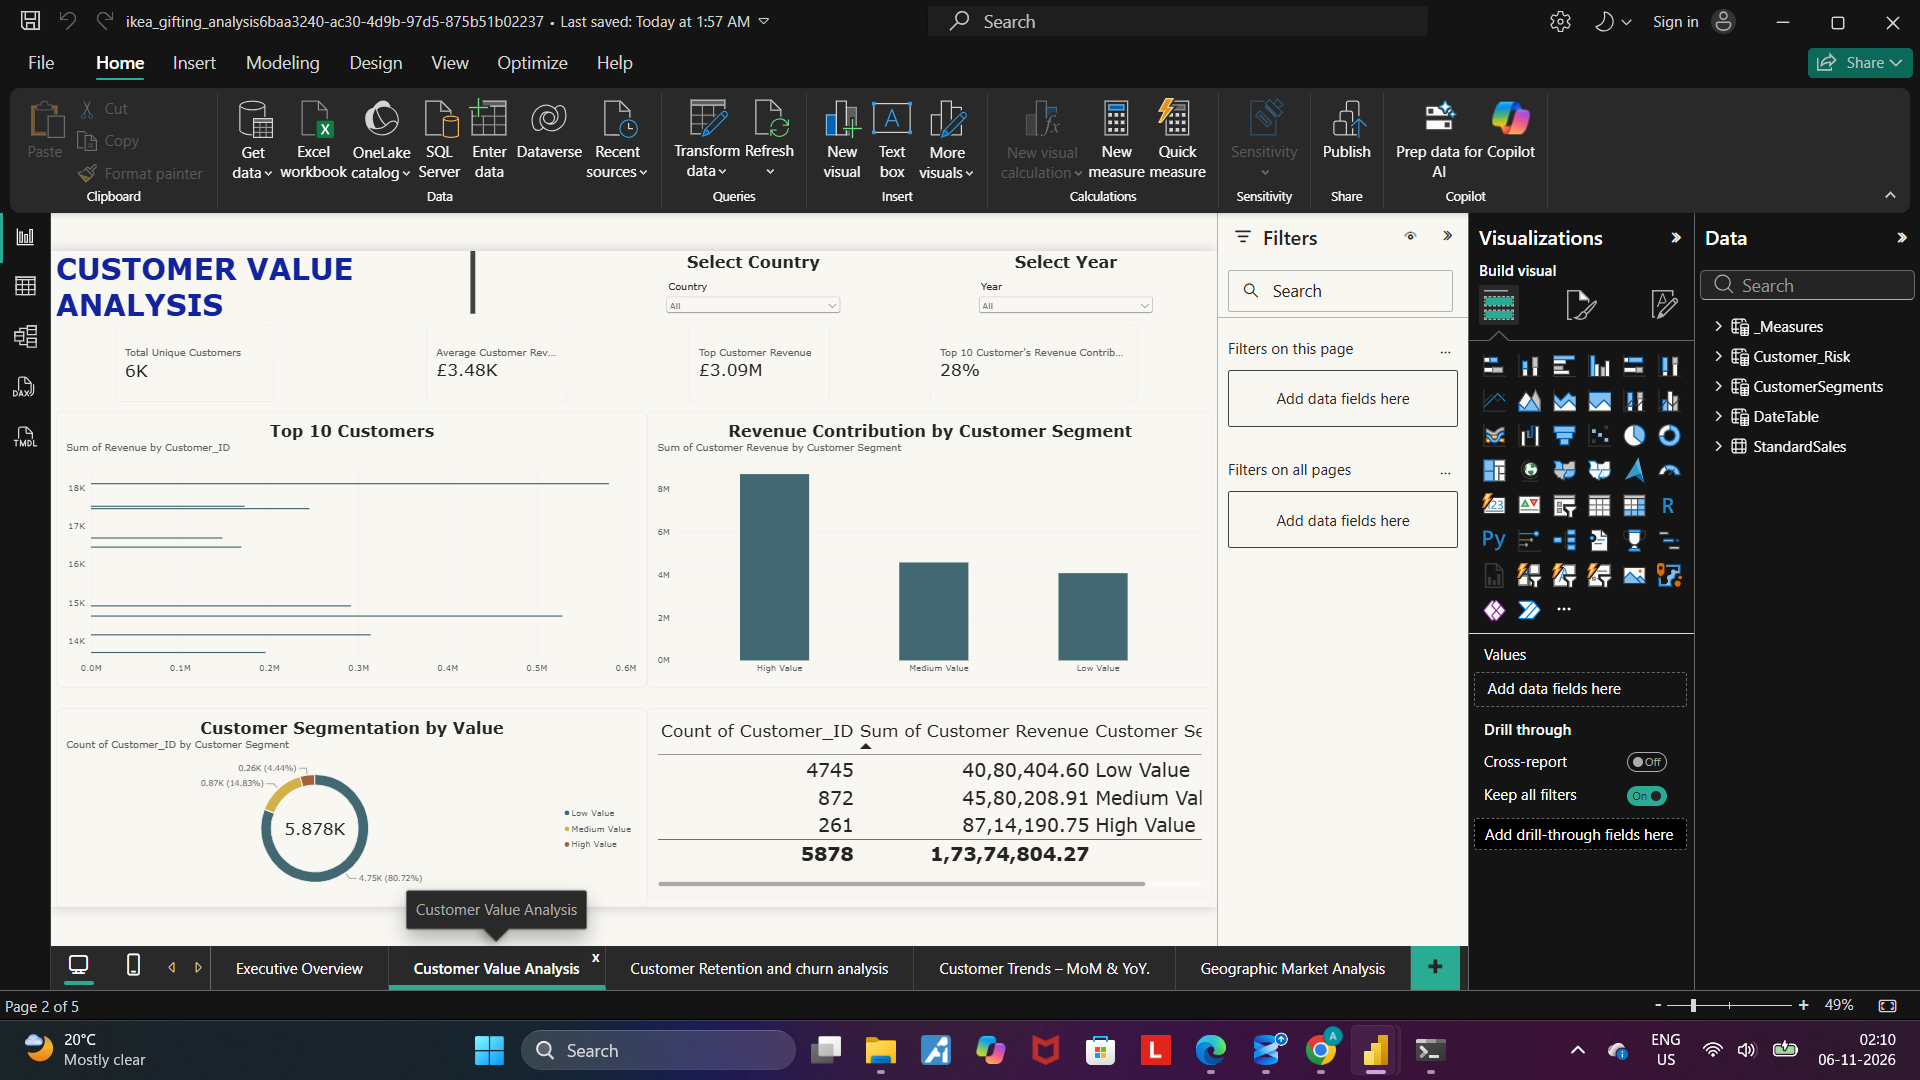

Layout of this report page (visuals, bound fields, positions):
{"tool":"powerbi","page":{"name":"Customer Value Analysis","canvas":[1920,1080],"ordinal":1},"visuals":[{"type":"textbox","box":[9.2,0,690.2,121.5],"z":0},{"type":"cardVisual","fields":{"Data":["StandardSales.Total Unique Customers"]},"box":[105,121.4,263.5,127.6],"z":1},{"type":"cardVisual","fields":{"Data":["Customer_Risk.Average Customer Revenue"]},"box":[617.5,121.4,233.7,127],"z":2},{"type":"cardVisual","fields":{"Data":["Customer_Risk.Top Customer Revenue"]},"box":[1049.7,121.4,233.7,127],"z":3},{"type":"cardVisual","fields":{"Data":["Customer_Risk.Top 10 Revenue Contribution %"]},"box":[1447,121.4,342.3,127],"z":4},{"type":"barChart","title":"Top 10 Customers ","fields":{"Category":["StandardSales.Customer_ID"],"Y":["Sum(StandardSales.Revenue)"]},"box":[8.2,263.5,973.6,454.9],"z":5},{"type":"donutChart","title":"Customer Segmentation by Value","fields":{"Category":["CustomerSegments.Customer Segment"],"Y":["CountNonNull(CustomerSegments.Customer_ID)"]},"box":[8.2,753.3,973.6,327.3],"z":6},{"type":"clusteredColumnChart","title":"Revenue Contribution by Customer Segment","fields":{"Category":["CustomerSegments.Customer Segment"],"Y":["Sum(CustomerSegments.Customer Revenue)"]},"box":[981.8,263.5,930.4,454.9],"z":7},{"type":"tableEx","fields":{"Values":["CountNonNull(CustomerSegments.Customer_ID)","Sum(CustomerSegments.Customer Revenue)","CustomerSegments.Customer Segment"]},"box":[981.8,753.3,930.4,310.8],"z":8},{"type":"slicer","title":"Select Country","fields":{"Values":["StandardSales.Country"]},"box":[1008.6,0,296.4,152.3],"z":9},{"type":"slicer","title":"Select Year","fields":{"Values":["StandardSales.Year"]},"box":[1523.2,0,296.4,152.3],"z":10}]}

Visuals, with their boxes on the page's 1920x1080 design canvas (x1, y1, x2, y2). These are canvas units, not pixel positions in the 1920x1080 screenshot, which may show the page scaled, cropped or inside an application window:
textbox: 9/0/699/122
cardVisual - StandardSales.Total Unique Customers: 105/121/368/249
cardVisual - Customer_Risk.Average Customer Revenue: 618/121/851/248
cardVisual - Customer_Risk.Top Customer Revenue: 1050/121/1283/248
cardVisual - Customer_Risk.Top 10 Revenue Contribution %: 1447/121/1789/248
"Top 10 Customers " barChart: 8/264/982/718
"Customer Segmentation by Value" donutChart: 8/753/982/1081
"Revenue Contribution by Customer Segment" clusteredColumnChart: 982/264/1912/718
tableEx - CountNonNull(CustomerSegments.Customer_ID) x Sum(CustomerSegments.Customer Revenue): 982/753/1912/1064
"Select Country" slicer: 1009/0/1305/152
"Select Year" slicer: 1523/0/1820/152
